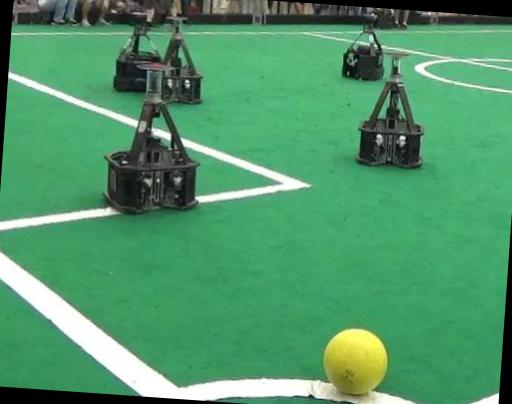ball: (323, 328, 388, 395)
robot: (105, 64, 198, 212), (357, 53, 423, 167), (114, 13, 162, 92), (162, 18, 203, 103), (342, 14, 384, 80)
